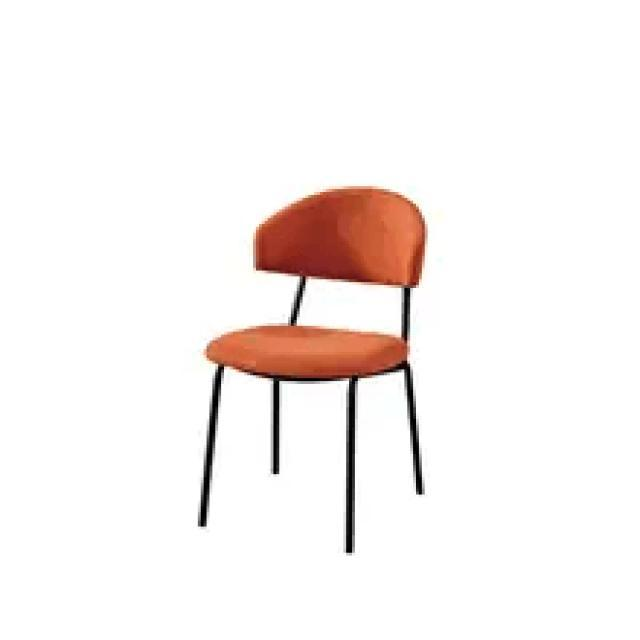chair: (190, 177, 430, 554), (204, 184, 430, 390)
